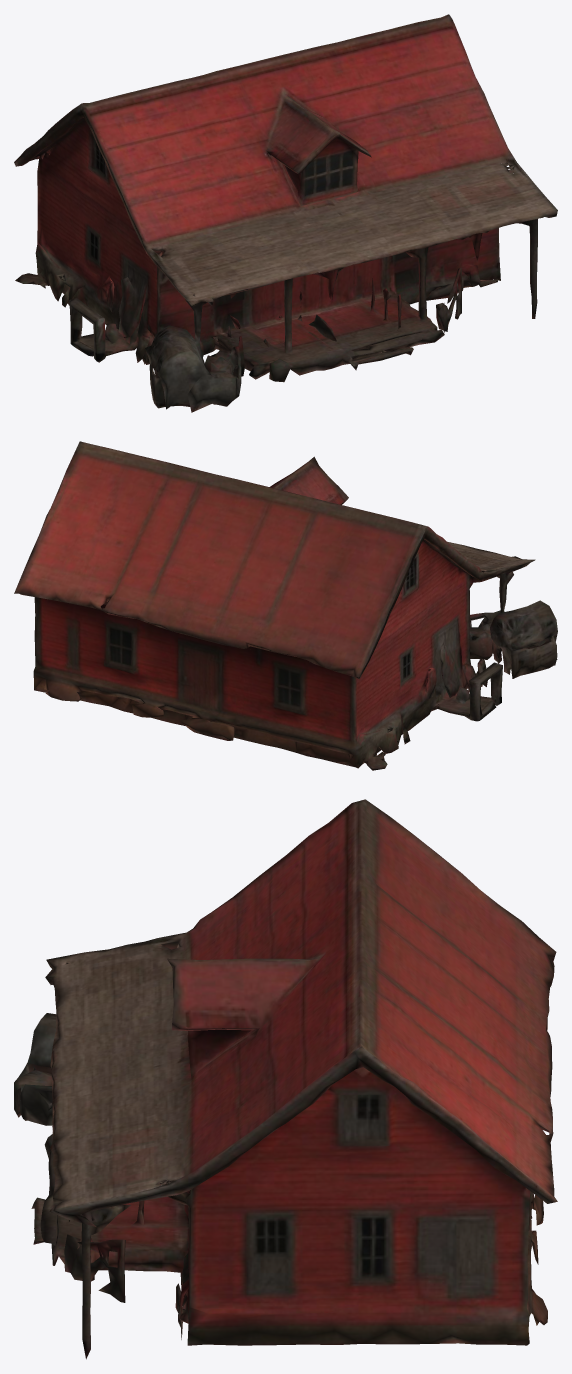
File: old_wooden_house_05_farm_house.glb
3 views of the same model, one above another, from view 1: azimuth 30°, elevation 25°; view 2: azimuth 150°, elevation 25°; view 3: azimuth 270°, elevation 25° (orthographic). The views are drawn at different scales.
Parts seen in each view (by area): view 1: Mesh1_Material_0.001_0; view 2: Mesh1_Material_0.001_0; view 3: Mesh1_Material_0.001_0.
Part boxes in pixels (x1,y1,x2,y2): Mesh1_Material_0.001_0: (14,14,557,412); Mesh1_Material_0.001_0: (14,441,557,770); Mesh1_Material_0.001_0: (14,799,557,1359).
Size of the model in its own units: 1.99 by 1.09 by 1.67.
1 material, 1 textured.
